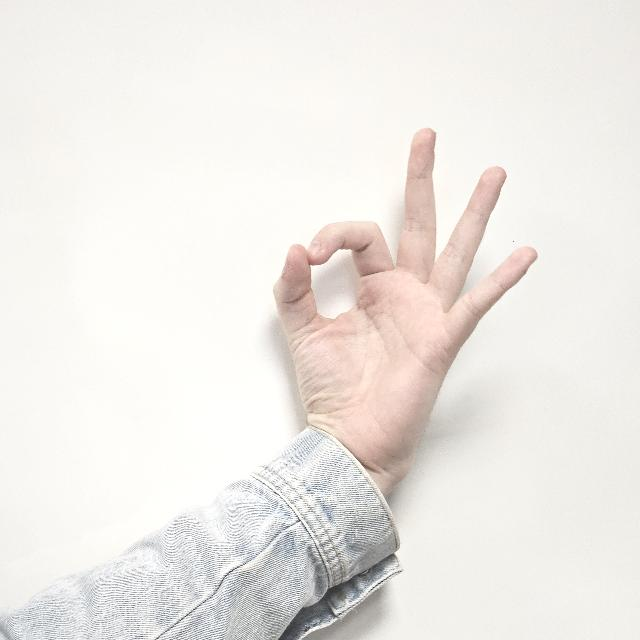Bolinha: (264, 120, 534, 474)
